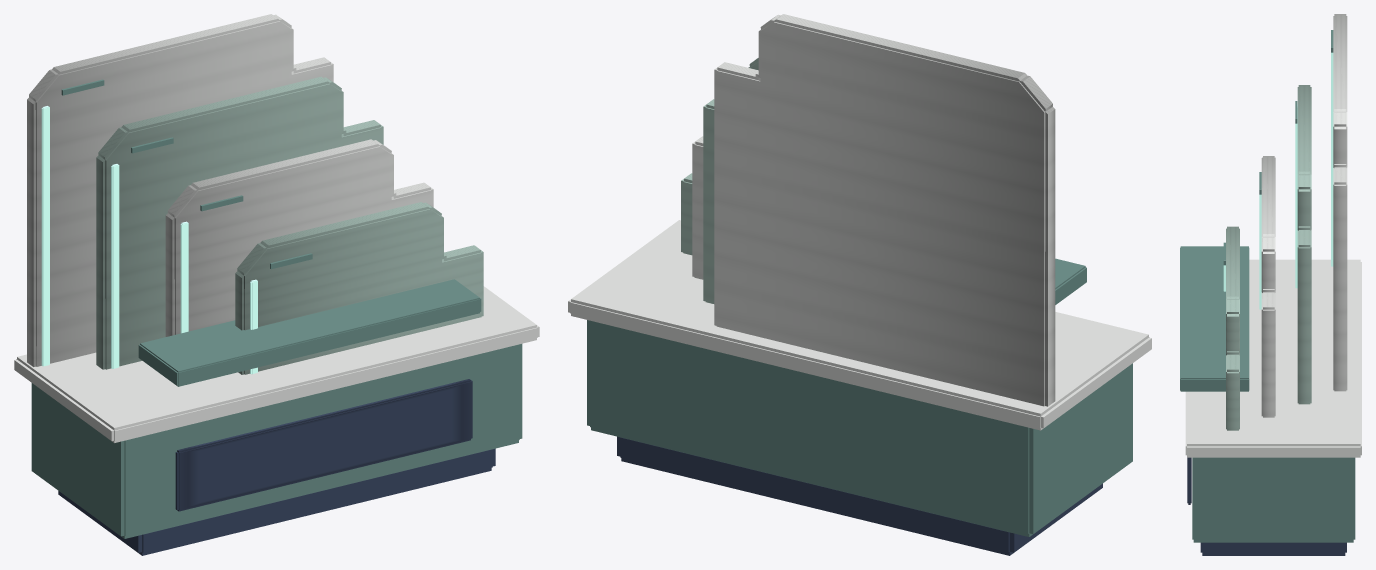
3 renders of one model, left to right at view 1: azimuth 30°, elevation 25°; view 2: azimuth 150°, elevation 25°; view 3: azimuth 270°, elevation 25°, orthographic. The views are drawn at different scales.
Parts seen in each view (by area): view 1: Recessed island base, Tall rear index, Second index, Third index, Front index and shelf, Level sample shelf; view 2: Tall rear index, Recessed island base, Second index, Third index, Level sample shelf, Front index and shelf; view 3: Recessed island base, Level sample shelf, Tall rear index, Second index, Third index, Front index and shelf.
Boxes of the visible parts, left/top/right/bottom form: Recessed island base: left=14, top=286, right=539, bottom=555; Tall rear index: left=27, top=14, right=333, bottom=366; Second index: left=96, top=76, right=383, bottom=369; Third index: left=165, top=139, right=433, bottom=336; Front index and shelf: left=235, top=202, right=483, bottom=374; Level sample shelf: left=138, top=279, right=481, bottom=386; Tall rear index: left=714, top=14, right=1055, bottom=406; Recessed island base: left=568, top=220, right=1151, bottom=555; Second index: left=703, top=58, right=758, bottom=303; Third index: left=692, top=136, right=703, bottom=279; Level sample shelf: left=1055, top=258, right=1086, bottom=304; Front index and shelf: left=681, top=173, right=692, bottom=255; Recessed island base: left=1185, top=259, right=1361, bottom=555; Level sample shelf: left=1180, top=246, right=1249, bottom=391; Tall rear index: left=1331, top=14, right=1347, bottom=391; Second index: left=1295, top=85, right=1311, bottom=404; Third index: left=1259, top=156, right=1275, bottom=417; Front index and shelf: left=1223, top=226, right=1239, bottom=430.
Bounding box in the file's own units: 2.55 × 2.46 × 1.05.
Materials: 1 (1 with a texture image).
